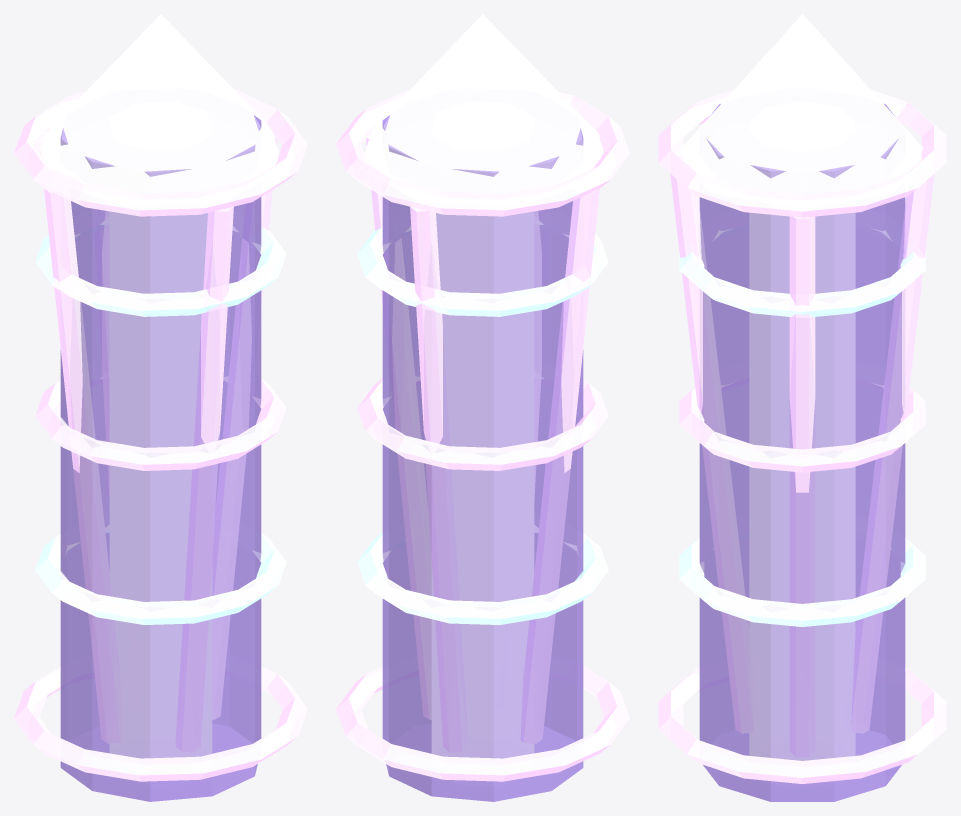
Rendered from beam.glb.
3 views of the same model, side by side, from view 1: azimuth 30°, elevation 25°; view 2: azimuth 150°, elevation 25°; view 3: azimuth 270°, elevation 25° (orthographic).
Parts seen in each view (by area): view 1: BeamShell, BeamCore, BeamImpactPoint, BeamRail_3, BeamRail_2, BeamFocusRing_0, BeamFocusRing_4, BeamRail_0, BeamFocusRing_1, BeamFocusRing_2, BeamFocusRing_3, BeamRail_1; view 2: BeamShell, BeamCore, BeamImpactPoint, BeamRail_1, BeamRail_2, BeamFocusRing_0, BeamFocusRing_4, BeamRail_0, BeamFocusRing_1, BeamFocusRing_2, BeamFocusRing_3, BeamRail_3; view 3: BeamShell, BeamCore, BeamImpactPoint, BeamRail_0, BeamRail_1, BeamRail_3, BeamFocusRing_0, BeamFocusRing_4, BeamFocusRing_3, BeamFocusRing_1, BeamFocusRing_2.
Part boxes in pixels (x1,y1,x2,y2): BeamShell: (60, 115, 261, 801); BeamCore: (110, 212, 211, 786); BeamImpactPoint: (38, 14, 283, 206); BeamRail_3: (176, 206, 233, 751); BeamRail_2: (44, 189, 122, 743); BeamFocusRing_0: (14, 654, 307, 781); BeamFocusRing_4: (14, 90, 307, 216); BeamRail_0: (212, 134, 277, 719); BeamFocusRing_1: (35, 514, 286, 624); BeamFocusRing_2: (35, 362, 286, 470); BeamFocusRing_3: (35, 209, 286, 316); BeamRail_1: (95, 211, 109, 493); BeamShell: (382, 115, 583, 801); BeamCore: (432, 212, 533, 786); BeamImpactPoint: (360, 14, 605, 206); BeamRail_1: (410, 206, 467, 751); BeamRail_2: (521, 189, 599, 743); BeamFocusRing_0: (336, 654, 629, 781); BeamFocusRing_4: (336, 90, 629, 216); BeamRail_0: (366, 134, 431, 719); BeamFocusRing_1: (357, 514, 608, 624); BeamFocusRing_2: (357, 362, 608, 470); BeamFocusRing_3: (357, 209, 608, 316); BeamRail_3: (534, 211, 548, 493); BeamShell: (699, 104, 905, 801); BeamCore: (749, 213, 855, 788); BeamImpactPoint: (675, 14, 929, 194); BeamRail_0: (789, 216, 815, 756); BeamRail_1: (851, 174, 934, 733); BeamRail_3: (670, 174, 753, 733); BeamFocusRing_0: (658, 659, 946, 783); BeamFocusRing_4: (658, 89, 946, 217); BeamFocusRing_3: (679, 210, 925, 317); BeamFocusRing_1: (679, 515, 925, 626); BeamFocusRing_2: (679, 360, 925, 472).
Bounding box in the file's own units: 0.3994 × 1.12 × 0.3893.
